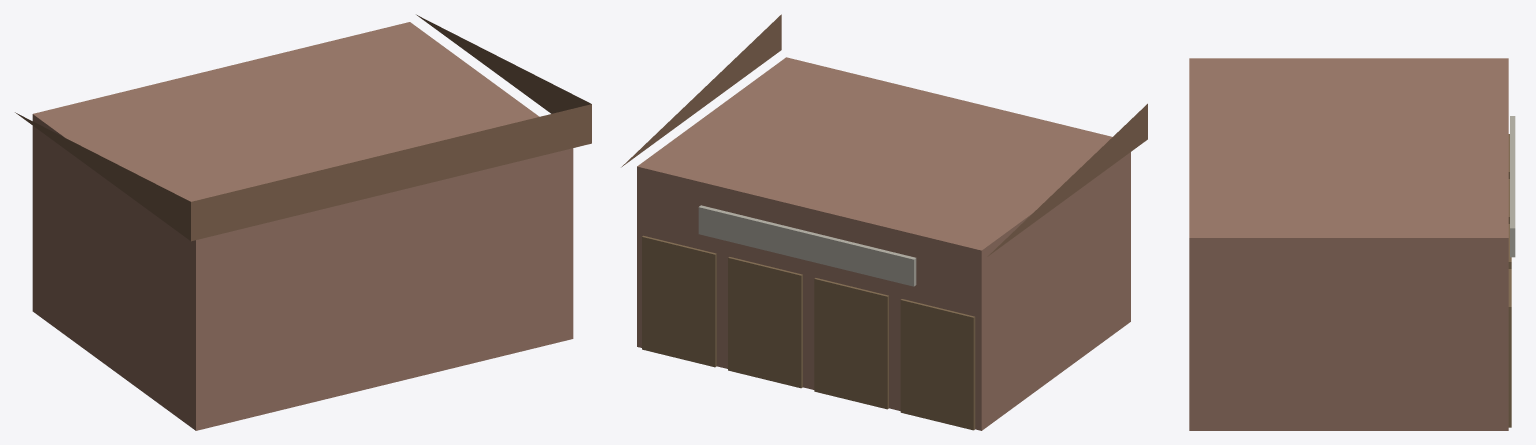
File: i_barn.glb
The picture shows the model from 3 angles, left to right: view 1: azimuth 30°, elevation 25°; view 2: azimuth 150°, elevation 25°; view 3: azimuth 270°, elevation 25°; orthographic projection. The views are drawn at different scales.
Visible parts, largest first — view 1: body; view 2: body; view 3: body.
Part boxes in pixels (<box>): body: <box>15,14,591,430</box>; body: <box>621,14,1147,430</box>; body: <box>1189,58,1515,430</box>.
Size of the model in its own units: 17 by 9.6 by 13.
